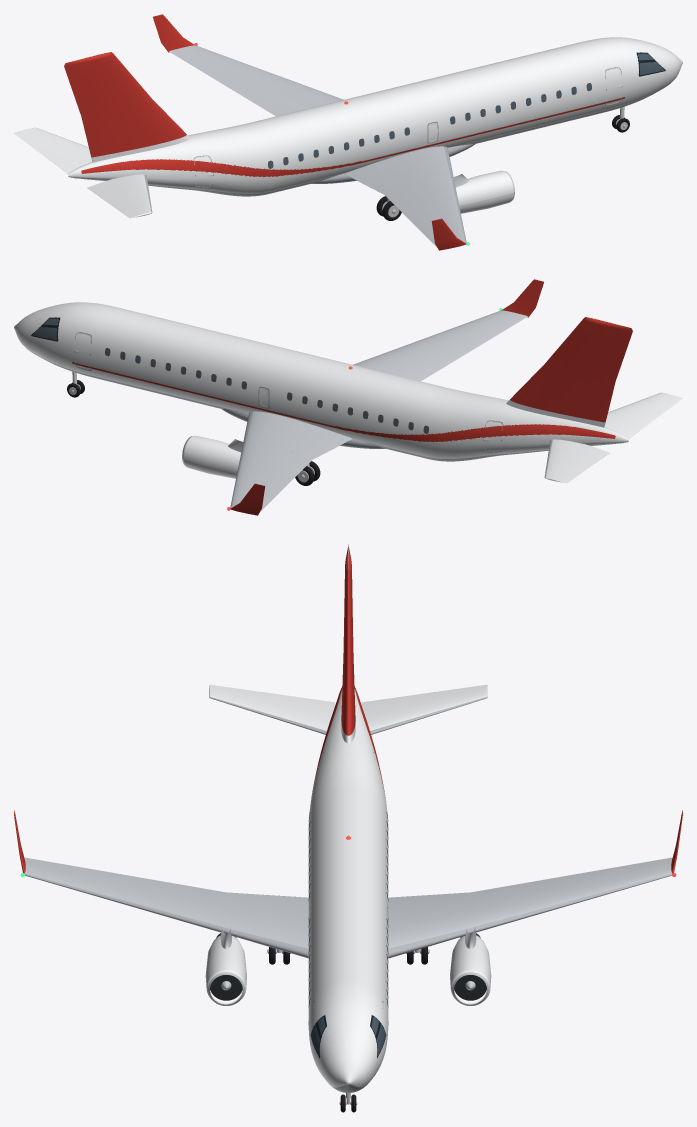
The model's file is regional.glb.
The picture shows the model from 3 angles, top to bottom: view 1: azimuth 30°, elevation 25°; view 2: azimuth 150°, elevation 25°; view 3: azimuth 270°, elevation 25°; orthographic projection. The views are drawn at different scales.
Visible parts, largest first — view 1: fuselage, fin, wing_r, wing_l, livery_sweep, engine_r_nacelle, tailplane_r, tailplane_l, cabin_windows_dark, winglet_l, cabin_window_glass, winglet_r (+3 smaller); view 2: fuselage, fin, wing_l, wing_r, livery_sweep, engine_l_nacelle, tailplane_l, tailplane_r, cabin_windows_dark, winglet_r, cabin_window_glass, winglet_l (+3 smaller); view 3: fuselage, wing_r, wing_l, tailplane_r, tailplane_l, fin, engine_l_nacelle, engine_r_nacelle.
Part boxes in pixels (left/top/right/bottom): fuselage: left=67, top=37, right=682, bottom=196; fin: left=64, top=52, right=190, bottom=162; wing_r: left=344, top=146, right=466, bottom=246; wing_l: left=169, top=45, right=343, bottom=116; livery_sweep: left=81, top=97, right=624, bottom=177; engine_r_nacelle: left=455, top=170, right=514, bottom=213; tailplane_r: left=87, top=174, right=152, bottom=218; tailplane_l: left=14, top=127, right=92, bottom=179; cabin_windows_dark: left=268, top=83, right=591, bottom=168; winglet_l: left=153, top=14, right=194, bottom=52; cabin_window_glass: left=268, top=83, right=591, bottom=168; winglet_r: left=431, top=218, right=466, bottom=250; fuselage: left=14, top=302, right=629, bottom=461; fin: left=506, top=317, right=632, bottom=427; wing_l: left=230, top=411, right=352, bottom=511; wing_r: left=353, top=310, right=527, bottom=381; livery_sweep: left=72, top=362, right=615, bottom=442; engine_l_nacelle: left=182, top=435, right=241, bottom=478; tailplane_l: left=544, top=439, right=609, bottom=483; tailplane_r: left=604, top=392, right=682, bottom=444; cabin_windows_dark: left=105, top=348, right=428, bottom=433; winglet_r: left=502, top=279, right=543, bottom=317; cabin_window_glass: left=105, top=348, right=428, bottom=433; winglet_l: left=230, top=483, right=265, bottom=515; fuselage: left=308, top=689, right=388, bottom=1092; wing_r: left=24, top=857, right=308, bottom=958; wing_l: left=388, top=857, right=672, bottom=958; tailplane_r: left=209, top=684, right=335, bottom=734; tailplane_l: left=361, top=684, right=487, bottom=734; fin: left=341, top=544, right=355, bottom=743; engine_l_nacelle: left=450, top=935, right=491, bottom=1005; engine_r_nacelle: left=205, top=935, right=246, bottom=1005.
Size of the model in its own units: 32.2 by 10.26 by 25.2.
